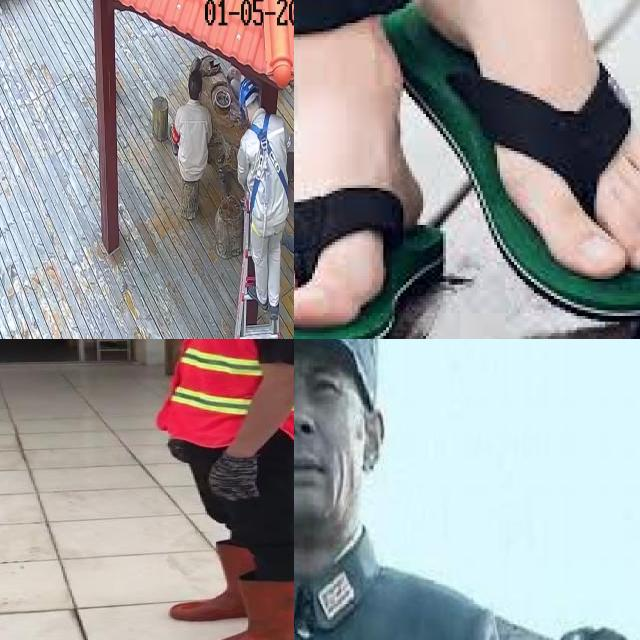Harness: (247, 115, 286, 208)
Sandals: (412, 0, 640, 324), (294, 68, 427, 339)
boots: (161, 531, 294, 624), (185, 573, 294, 640)
face_nomask: (294, 360, 350, 514)
person: (294, 339, 547, 640), (132, 339, 294, 640)
vest: (160, 339, 294, 451)
